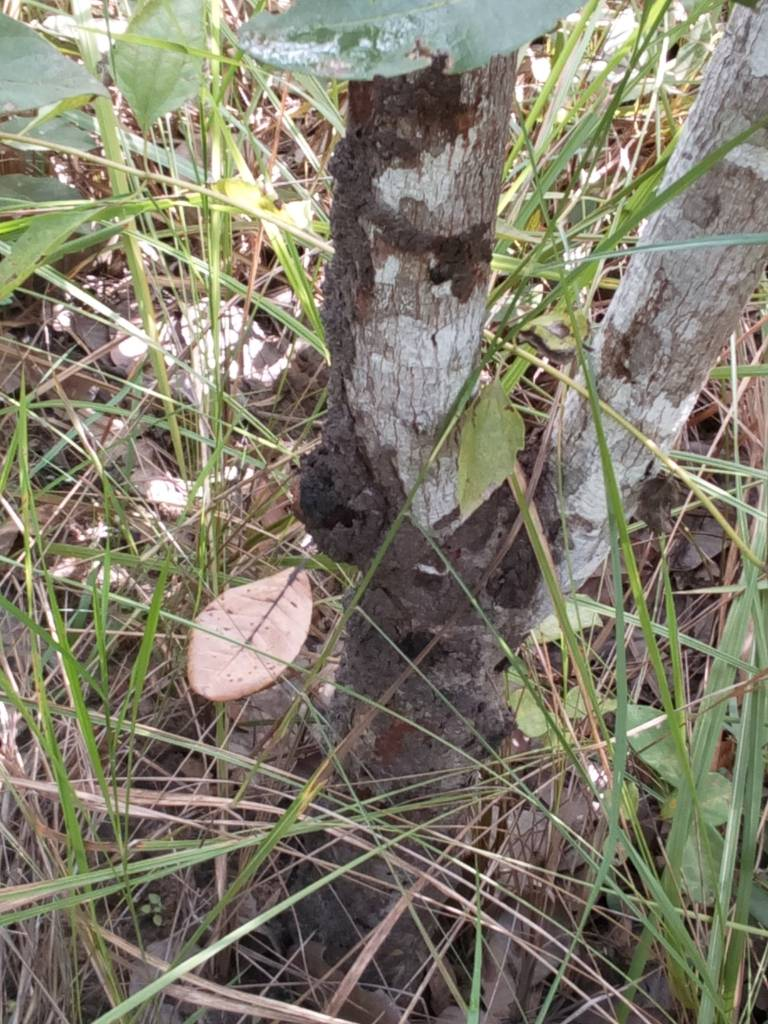Termites: (333, 524, 493, 747), (316, 114, 405, 514)
